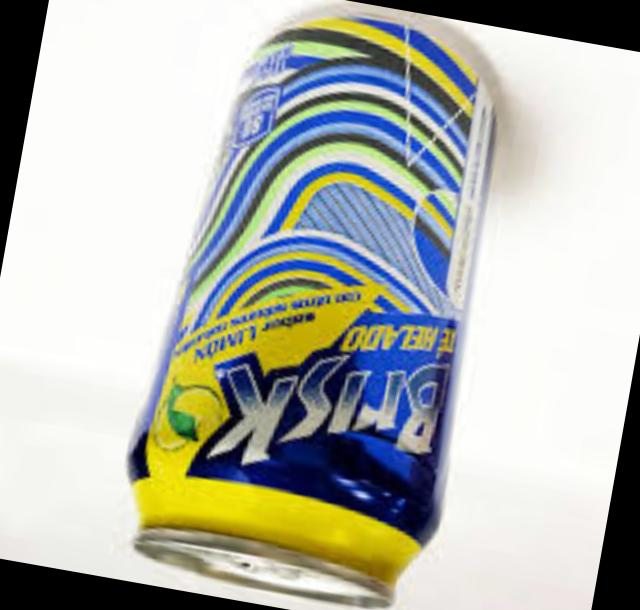metal: (133, 22, 497, 610)
